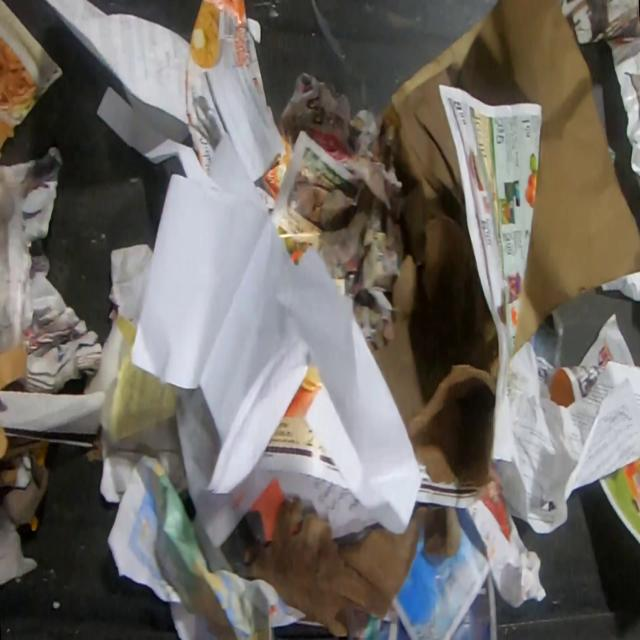cardboard: (372, 0, 640, 484), (242, 492, 462, 638), (0, 344, 105, 490)
